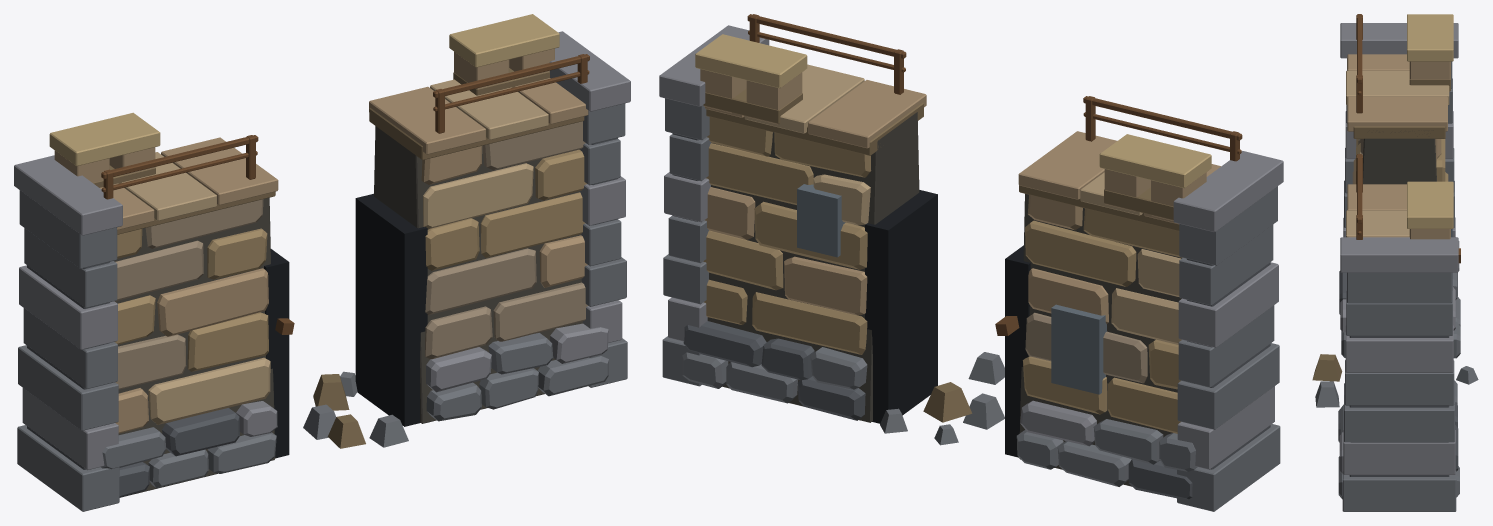
The model's file is mdl_wall_segment_breach_v2.glb.
3 renders of one model, left to right at view 1: azimuth 30°, elevation 25°; view 2: azimuth 150°, elevation 25°; view 3: azimuth 270°, elevation 25°, orthographic. The views are drawn at different scales.
Visible parts, largest first — view 1: GEO_Wall_Segment_Breach_Detail, GEO_Wall_Segment_Breach; view 2: GEO_Wall_Segment_Breach_Detail, GEO_Wall_Segment_Breach; view 3: GEO_Wall_Segment_Breach, GEO_Wall_Segment_Breach_Detail.
Part boxes in pixels (x1,y1,x2,y2): GEO_Wall_Segment_Breach_Detail: (101,121,608,497); GEO_Wall_Segment_Breach: (14,14,630,511); GEO_Wall_Segment_Breach_Detail: (682,117,1197,499); GEO_Wall_Segment_Breach: (659,14,1283,511); GEO_Wall_Segment_Breach: (1340,14,1458,511); GEO_Wall_Segment_Breach_Detail: (1312,139,1478,499).
Bounding box in the file's own units: 7.15 × 4.1 × 2.17.
